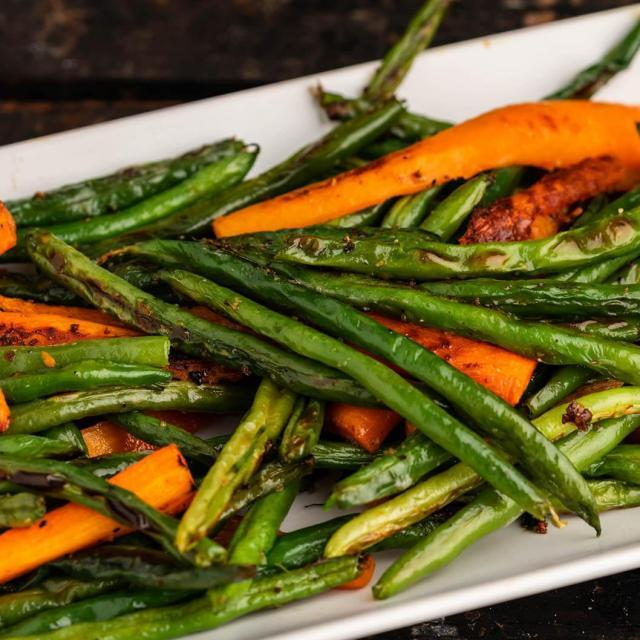Beans: (0, 18, 639, 639)
